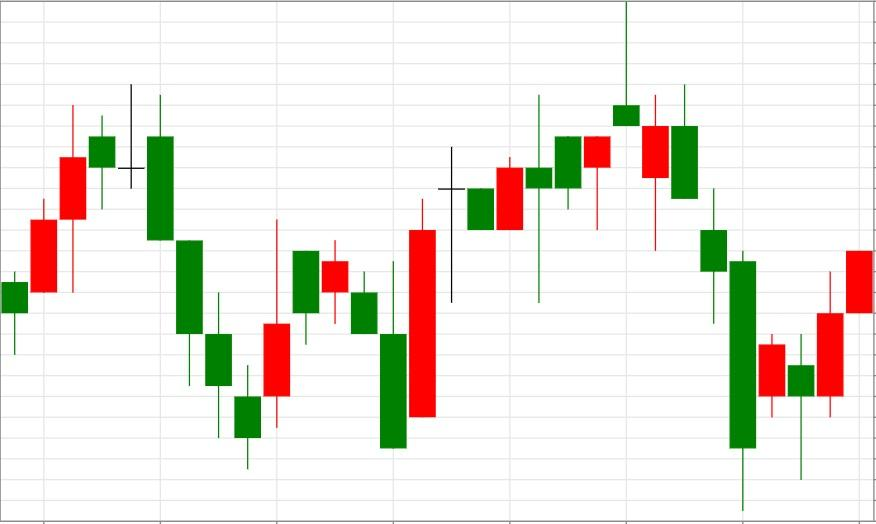shooting_star_fall: (379, 0, 640, 448)
three_black_crows_fall: (0, 84, 233, 438)
